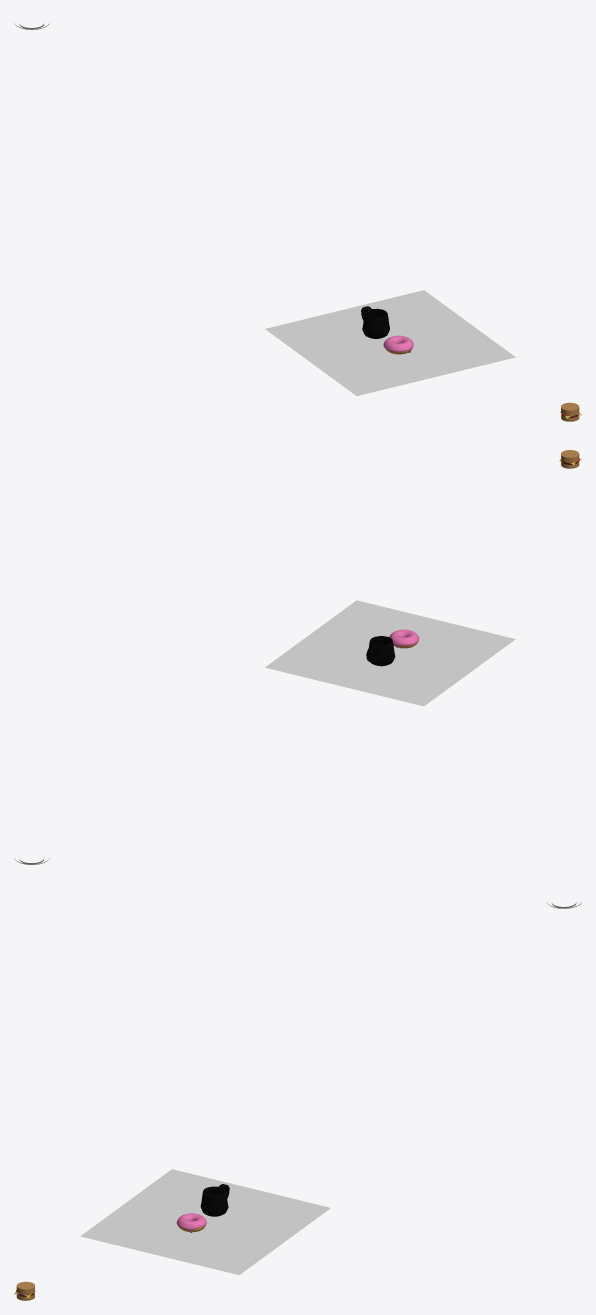
Rendered from BURGER.glb.
3 views of the same model, one above another, from view 1: azimuth 30°, elevation 25°; view 2: azimuth 150°, elevation 25°; view 3: azimuth 330°, elevation 25° (orthographic).
Parts seen in each view (by area): view 1: Table, Coffe mug; view 2: Table, Coffe mug; view 3: Table, Coffe mug.
Boxes of the visible parts, x1,y1,x2,y2 form: Table: (265, 290, 515, 395); Coffe mug: (361, 306, 389, 338); Table: (265, 600, 515, 706); Coffe mug: (366, 636, 395, 666); Table: (80, 1169, 330, 1274); Coffe mug: (200, 1184, 229, 1216).
Bounding box in the file's own units: 2 × 0.8162 × 12.01.
